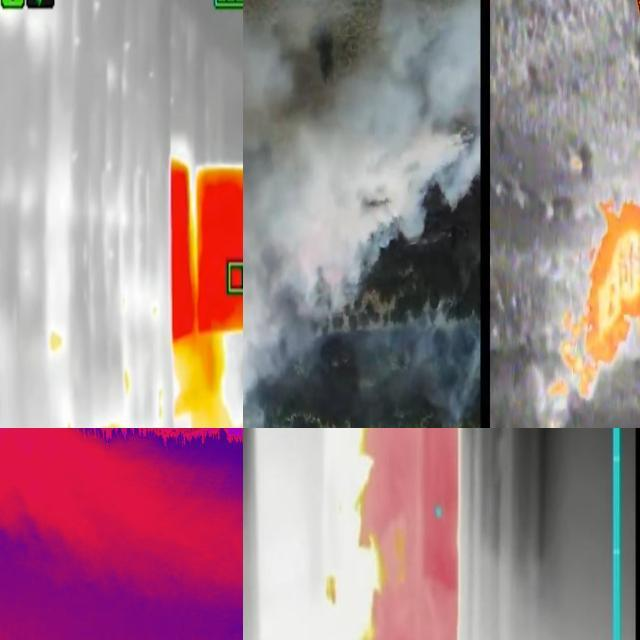fire: (321, 429, 464, 640), (542, 201, 640, 413), (171, 325, 244, 429)
